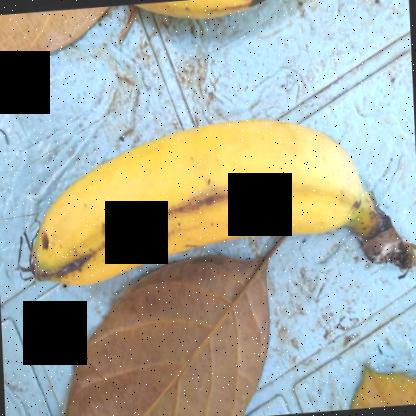ripe: (11, 86, 362, 316)
